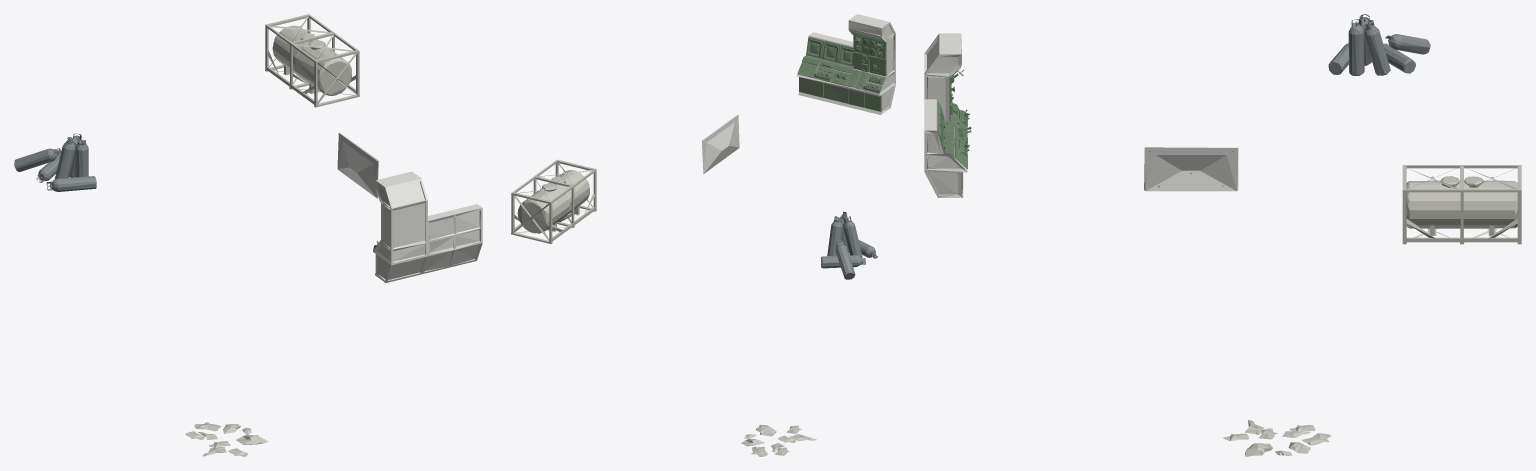
The model's file is underwater_lab_b.glb.
3 renders of one model, left to right at view 1: azimuth 30°, elevation 25°; view 2: azimuth 150°, elevation 25°; view 3: azimuth 270°, elevation 25°, orthographic. The views are drawn at different scales.
Parts seen in each view (by area): view 1: control_panels_mid_a_LOD0, ground_cloth_a_LOD0, gas_canister_pile_a; view 2: control_panels_mid_a_LOD0, ground_cloth_a_LOD0, gas_canister_pile_a; view 3: control_panels_mid_a_LOD0, ground_cloth_a_LOD0, gas_canister_pile_a.
Part boxes in pixels (left/top/right/bottom): control_panels_mid_a_LOD0: left=337, top=132, right=482, bottom=282; ground_cloth_a_LOD0: left=185, top=14, right=359, bottom=456; gas_canister_pile_a: left=14, top=133, right=96, bottom=191; control_panels_mid_a_LOD0: left=701, top=14, right=895, bottom=173; ground_cloth_a_LOD0: left=511, top=159, right=816, bottom=456; gas_canister_pile_a: left=821, top=211, right=877, bottom=279; control_panels_mid_a_LOD0: left=924, top=33, right=1238, bottom=197; ground_cloth_a_LOD0: left=1223, top=165, right=1521, bottom=456; gas_canister_pile_a: left=1328, top=14, right=1430, bottom=75.
Bounding box in the file's own units: 9.25 × 9.26 × 12.05.
